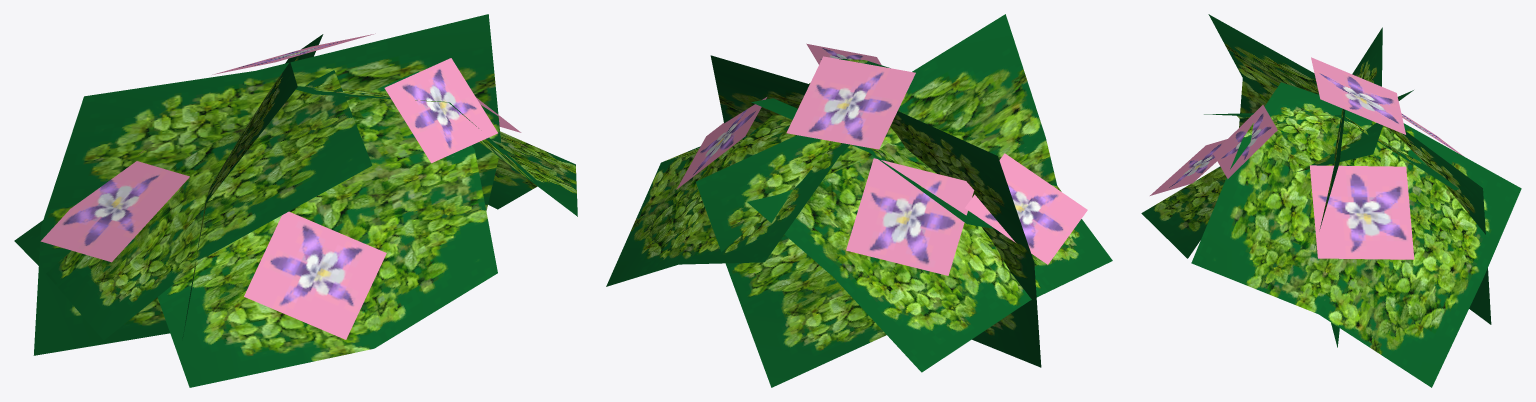
Rendered from Bush.glb.
3 renders of one model, left to right at view 1: azimuth 30°, elevation 25°; view 2: azimuth 150°, elevation 25°; view 3: azimuth 270°, elevation 25°, orthographic. The views are drawn at different scales.
Visible parts, largest first — view 1: bush_1; view 2: bush_1; view 3: bush_1.
Part boxes in pixels (x1=…): bush_1: x1=14, y1=14, x2=577, y2=387; bush_1: x1=606, y1=14, x2=1112, y2=387; bush_1: x1=1141, y1=14, x2=1521, y2=387.
Bounding box in the file's own units: 1.7 × 1.11 × 1.4.
1 material, 1 textured.
